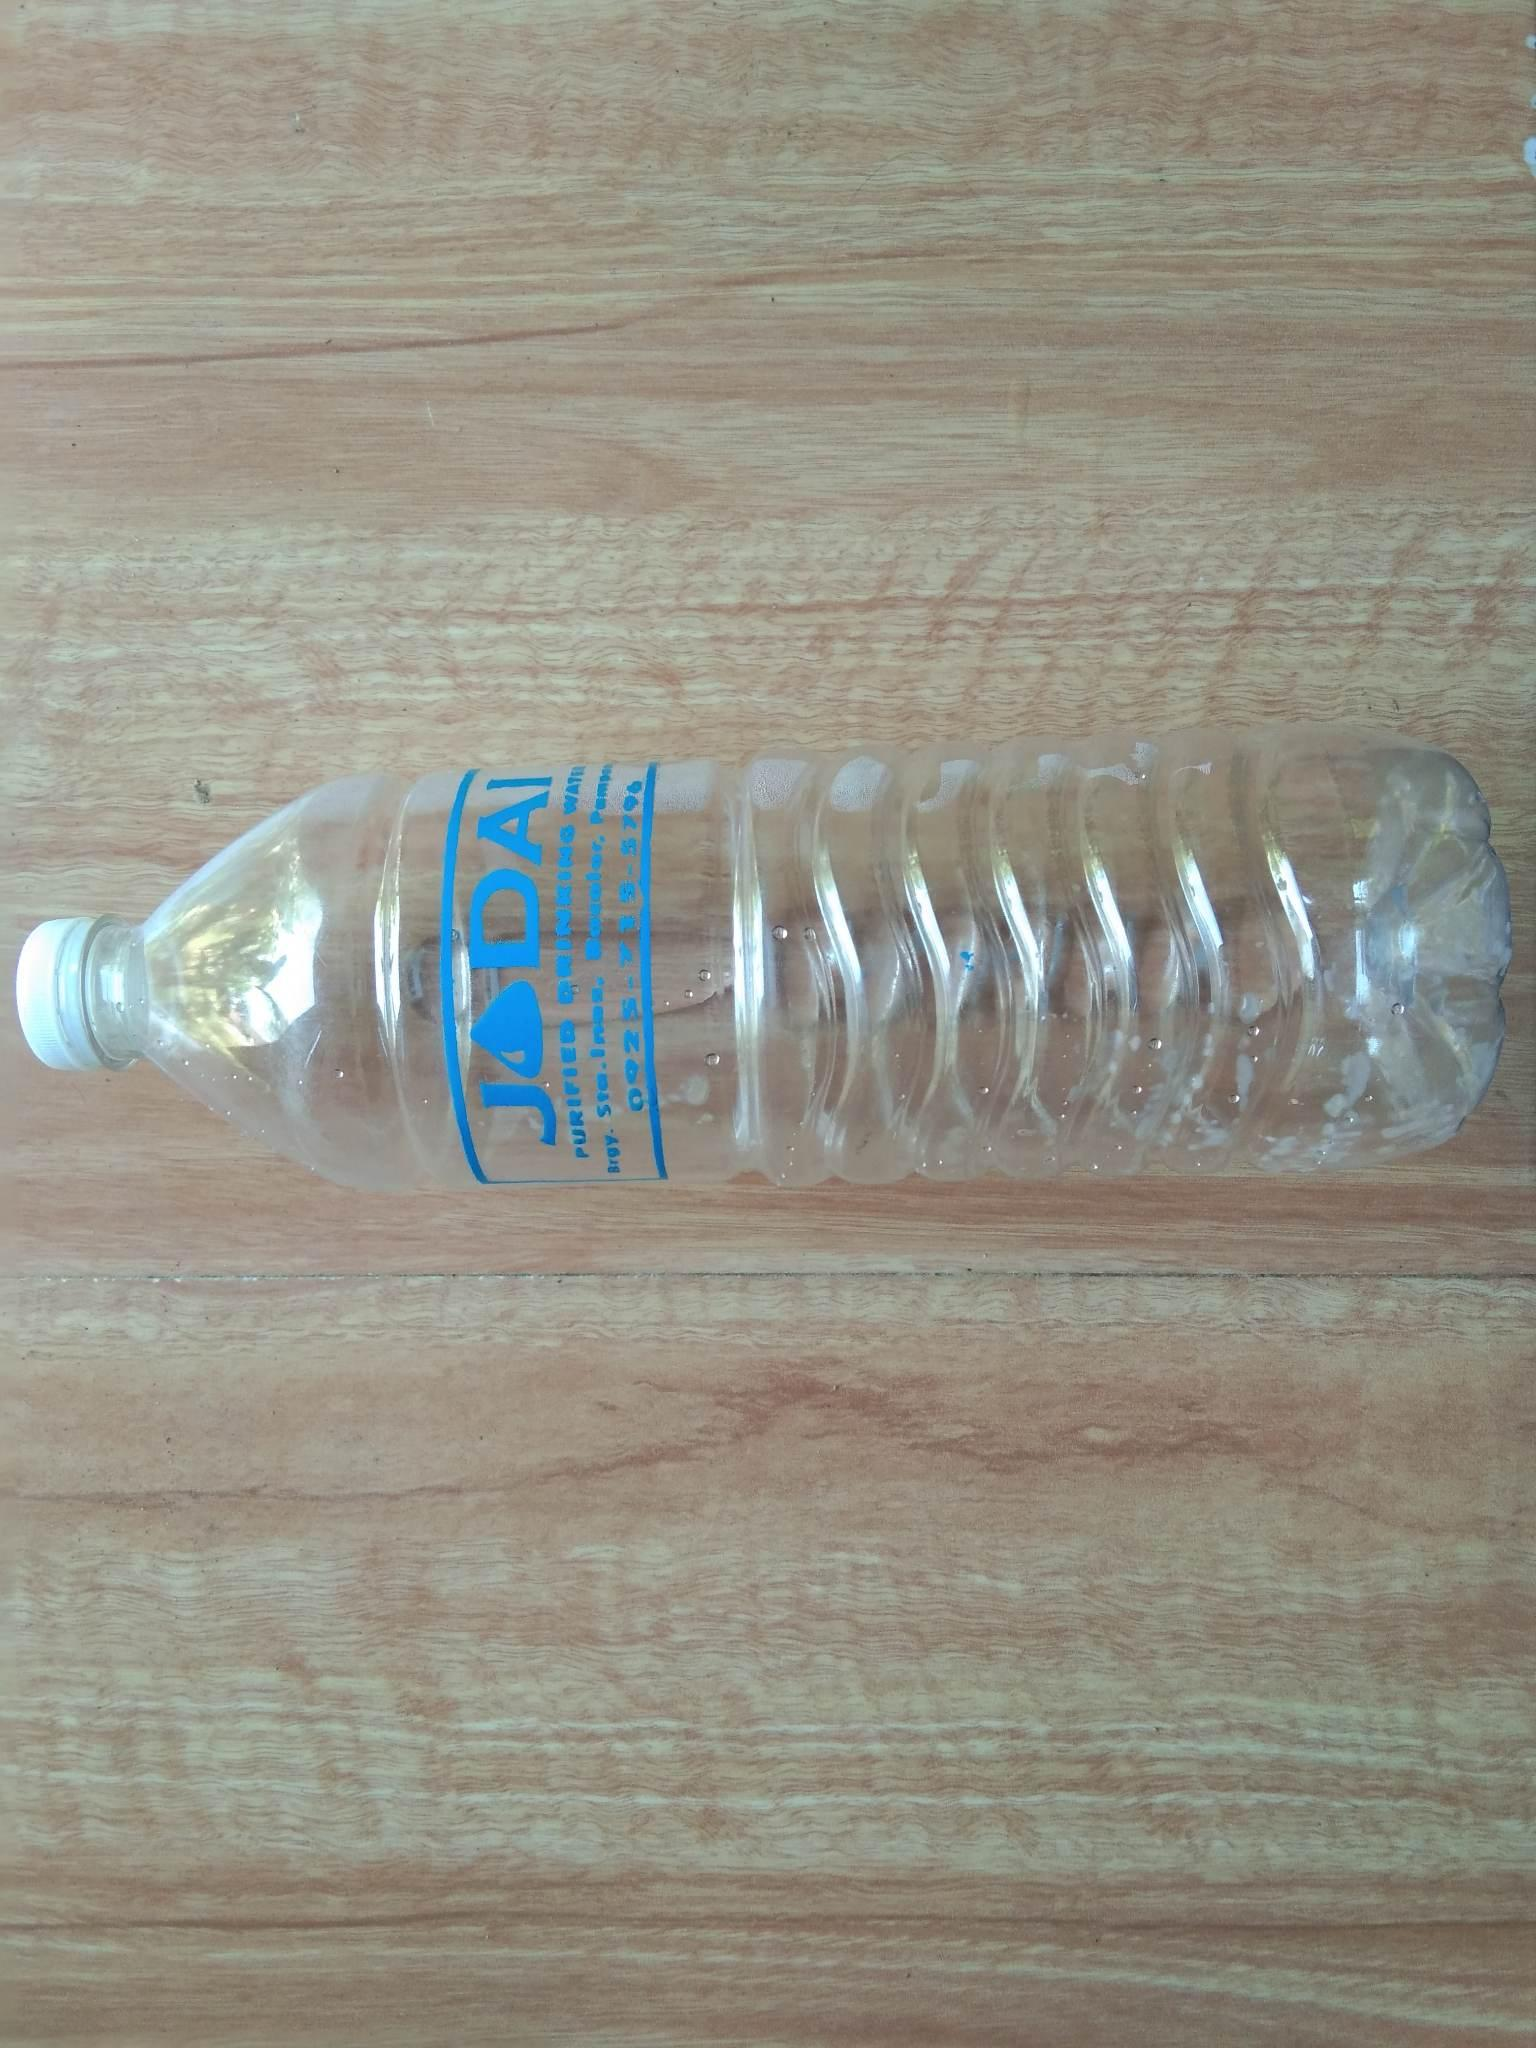plastic: (24, 622, 1534, 1300)
